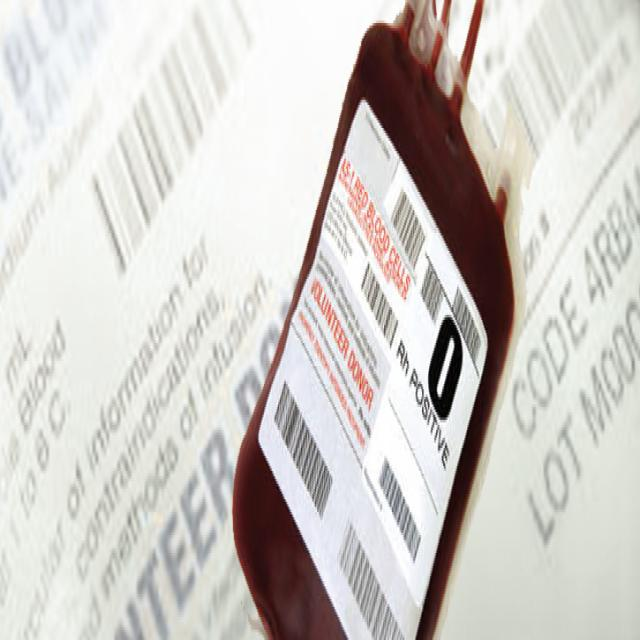B3: (234, 0, 523, 632)
